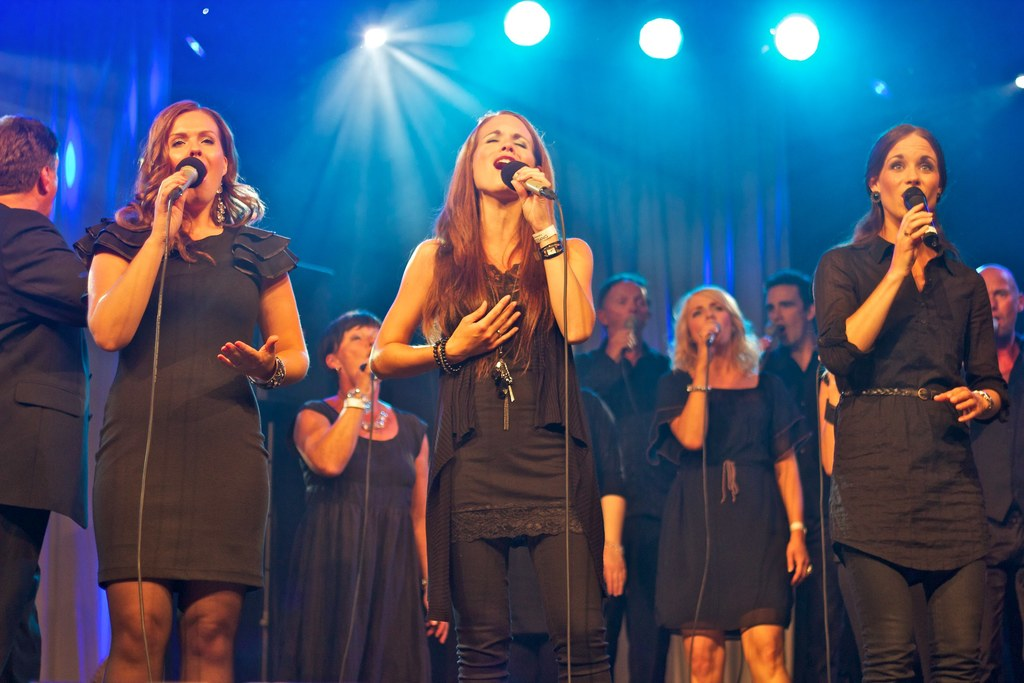Person: (0, 99, 1024, 683)
